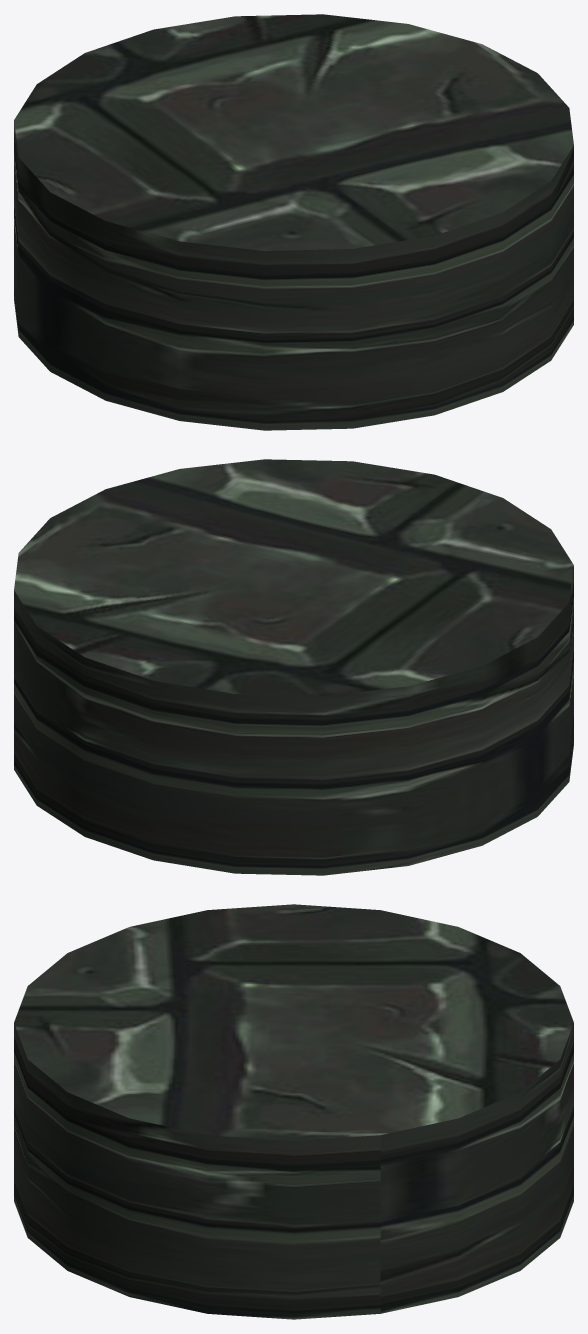
Rendered from Bumper_2.obj.
3 renders of one model, top to bottom at view 1: azimuth 30°, elevation 25°; view 2: azimuth 150°, elevation 25°; view 3: azimuth 270°, elevation 25°, orthographic.
Parts seen in each view (by area): view 1: Bumper_2; view 2: Bumper_2; view 3: Bumper_2.
Part boxes in pixels (x1,y1,x2,y2): Bumper_2: [14, 14, 573, 430]; Bumper_2: [14, 459, 573, 875]; Bumper_2: [14, 904, 573, 1319].
Bounding box in the file's own units: 21.45 × 7.55 × 21.45.
1 material, 1 textured.
